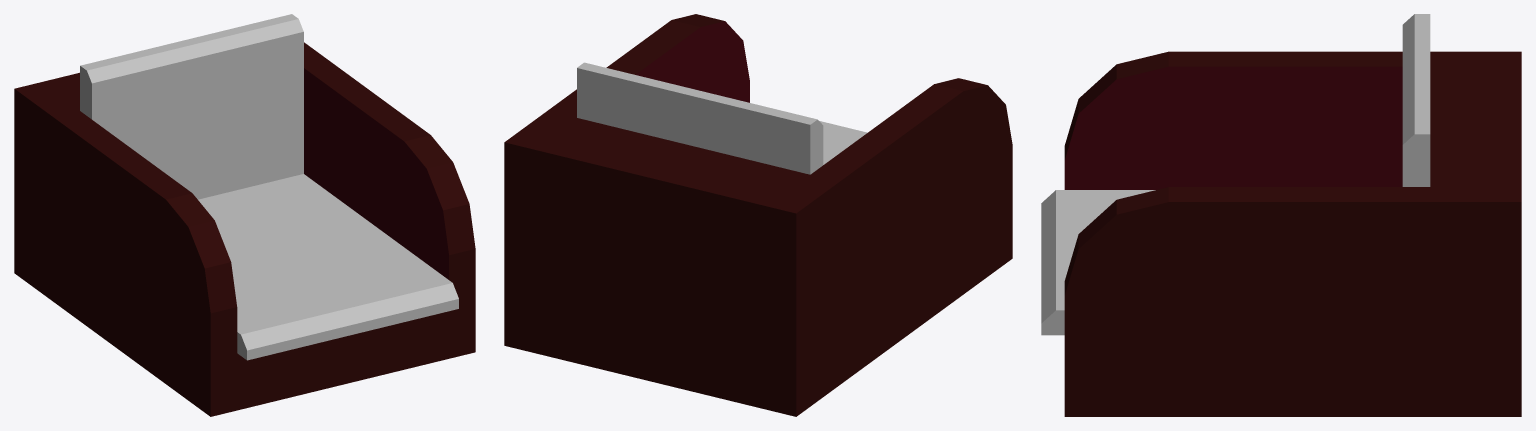
Rendered from SofaShort.fbx.
3 renders of one model, left to right at view 1: azimuth 30°, elevation 25°; view 2: azimuth 150°, elevation 25°; view 3: azimuth 270°, elevation 25°, orthographic. The views are drawn at different scales.
Visible parts, largest first — view 1: SofaShort, SofaMattress.001; view 2: SofaShort, SofaMattress.001; view 3: SofaShort, SofaMattress.001.
Boxes of the visible parts, x1,y1,x2,y2 form: SofaShort: [14, 42, 475, 416]; SofaMattress.001: [80, 14, 458, 360]; SofaShort: [504, 14, 1012, 416]; SofaMattress.001: [577, 62, 867, 174]; SofaShort: [1064, 51, 1521, 416]; SofaMattress.001: [1041, 14, 1430, 335].
Size of the model in its own units: 390 by 323 by 525.
